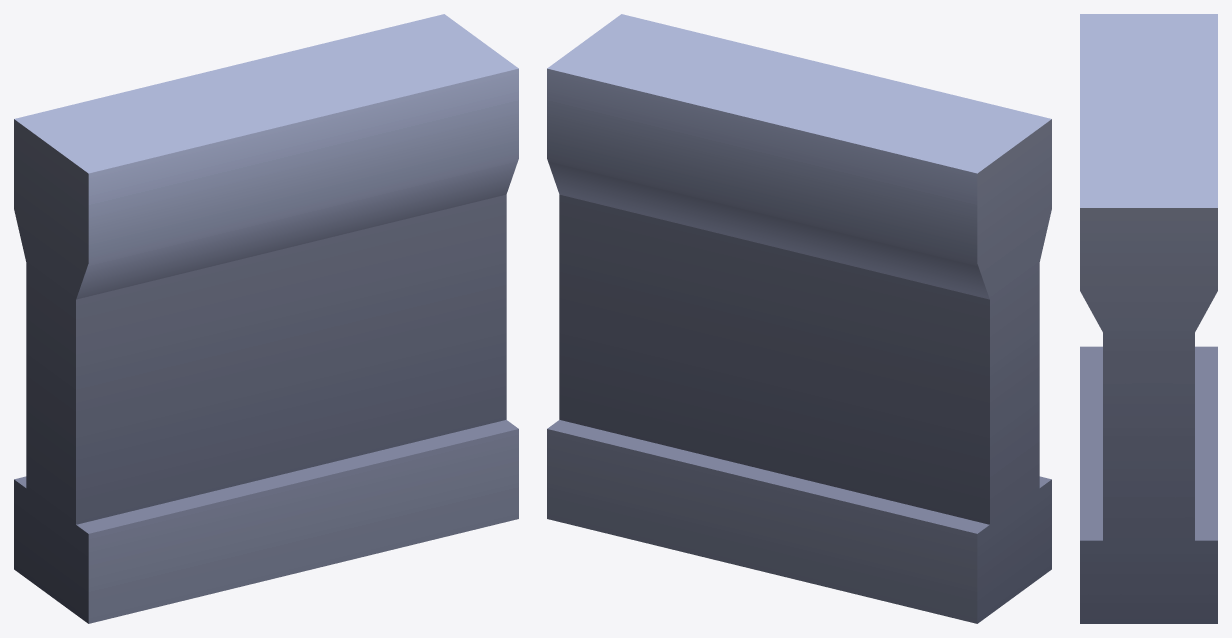
File: wall.glb
3 views of the same model, side by side, from view 1: azimuth 30°, elevation 25°; view 2: azimuth 150°, elevation 25°; view 3: azimuth 270°, elevation 25° (orthographic). The views are drawn at different scales.
Parts seen in each view (by area): view 1: wall; view 2: wall; view 3: wall.
Part boxes in pixels (left/top/right/bottom): wall: left=14, top=14, right=518, bottom=623; wall: left=547, top=14, right=1051, bottom=623; wall: left=1080, top=14, right=1217, bottom=623.
Bounding box in the file's own units: 1 × 1 × 0.3.
Materials: 1 (1 with a texture image).
